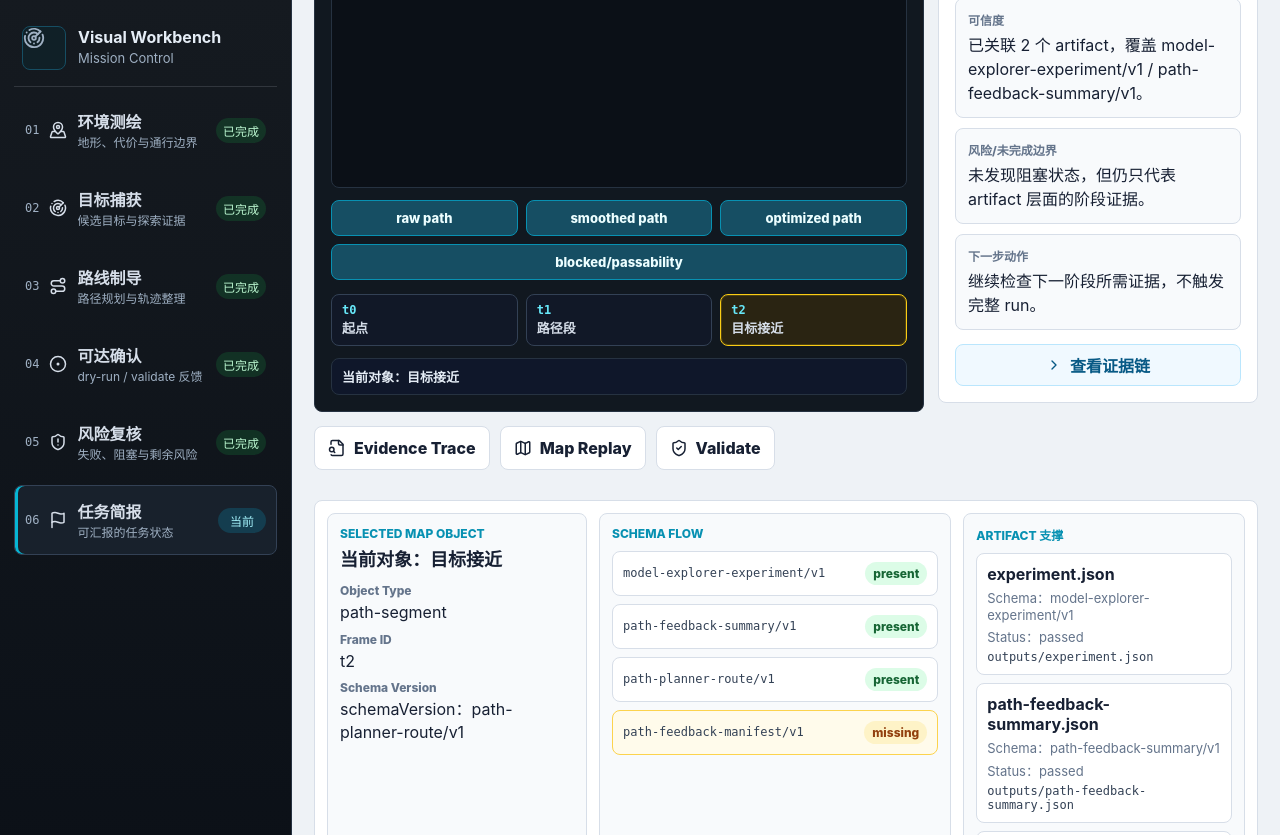
it: App › stage selection keeps the mission-stage fallback selected and closes active tools
The image size is (1280, 835).
(page scrolled)
Expected: the heading "当前对象：目标接近" is shown, [340,549,502,570]
Expected: the text "当前对象：目标接近" is shown, [331,358,907,395]
What coordinates should you click on to do the following:
click the button "Evidence Trace"
I would click on:
 (402, 448)
Its box is [314,426,490,470].
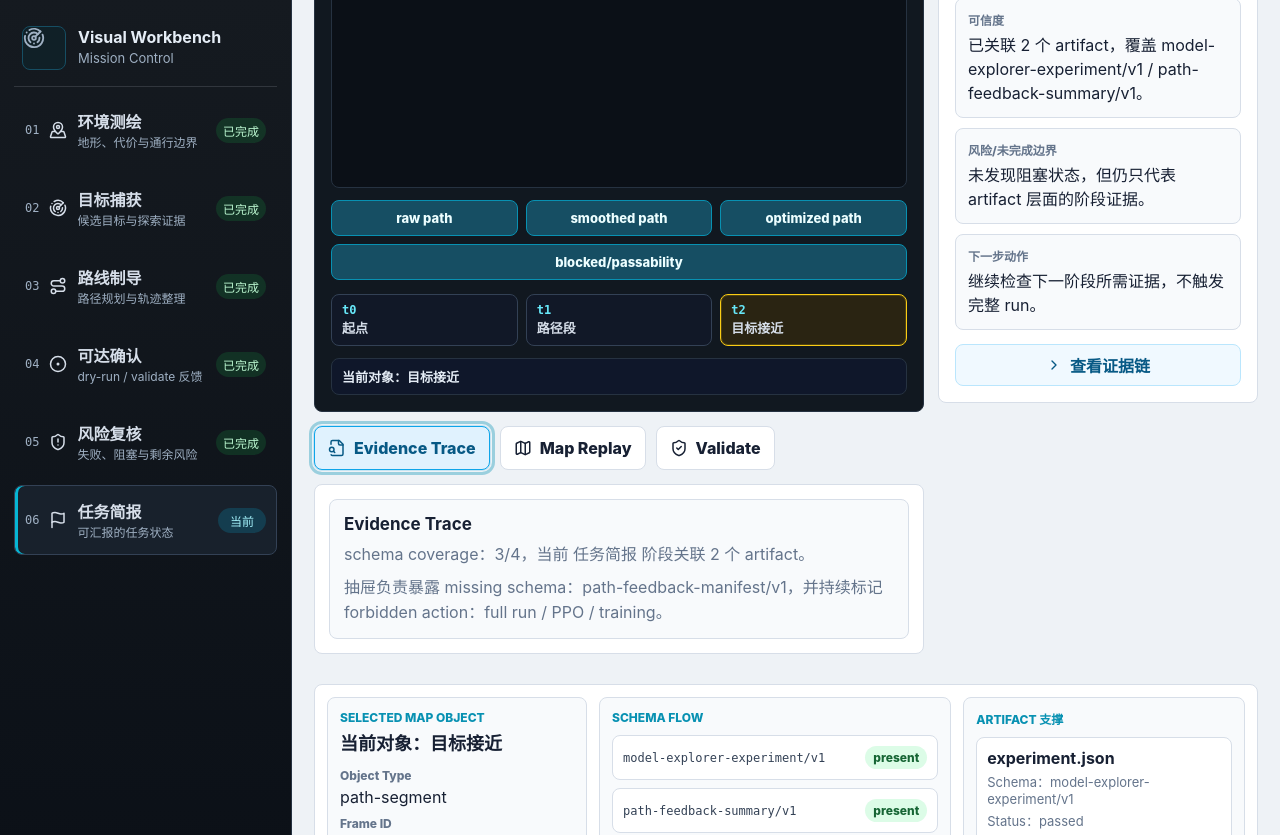
Result: the element named "阶段工具面板" is shown at [314,484,924,654]
What coordinates should you click on to do the following:
click the button "01 环境测绘 地形、代价与通行边界 已完成"
I would click on:
 (109, 122)
Its box is [14,95,277,165].
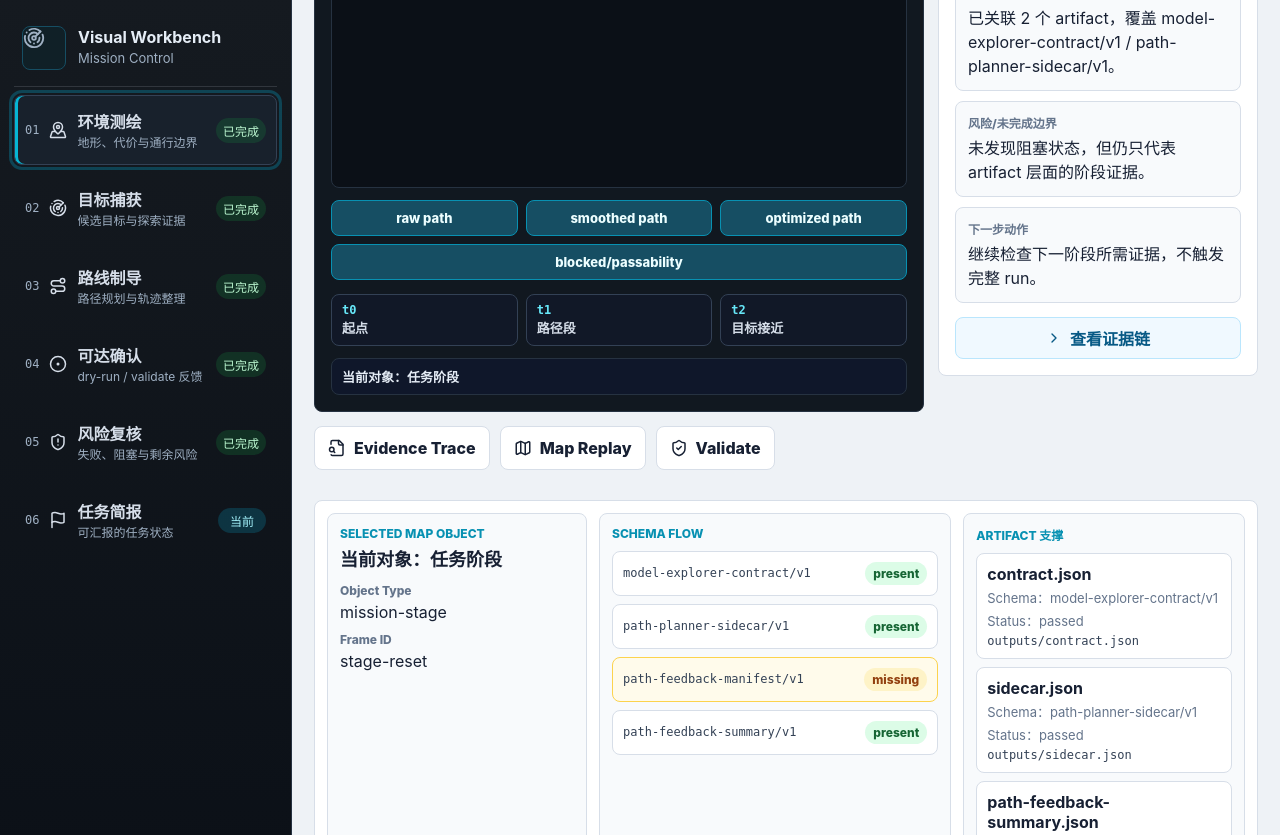
Result: the element "阶段工具面板" is gone
Result: the heading "当前对象：任务阶段" is shown at [340,549,502,570]
Result: the text "mission-stage" is shown at [340,602,447,622]
